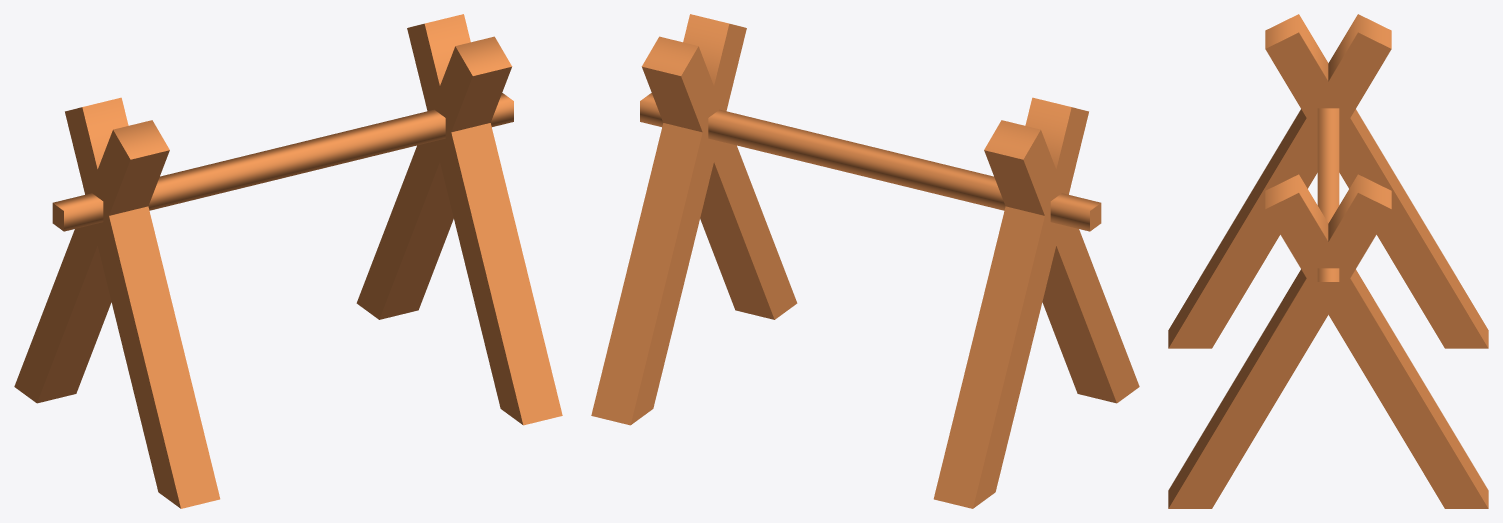
Rendered from woodstand.fbx.
The picture shows the model from 3 angles, left to right: view 1: azimuth 30°, elevation 25°; view 2: azimuth 150°, elevation 25°; view 3: azimuth 270°, elevation 25°; orthographic projection. The views are drawn at different scales.
Visible parts, largest first — view 1: woodstand; view 2: woodstand; view 3: woodstand.
Part boxes in pixels (bbox=[...]): woodstand: bbox=[14, 14, 562, 508]; woodstand: bbox=[591, 14, 1139, 508]; woodstand: bbox=[1168, 14, 1488, 508].
Bounding box in the file's own units: 15.53 × 10.87 × 9.97.
